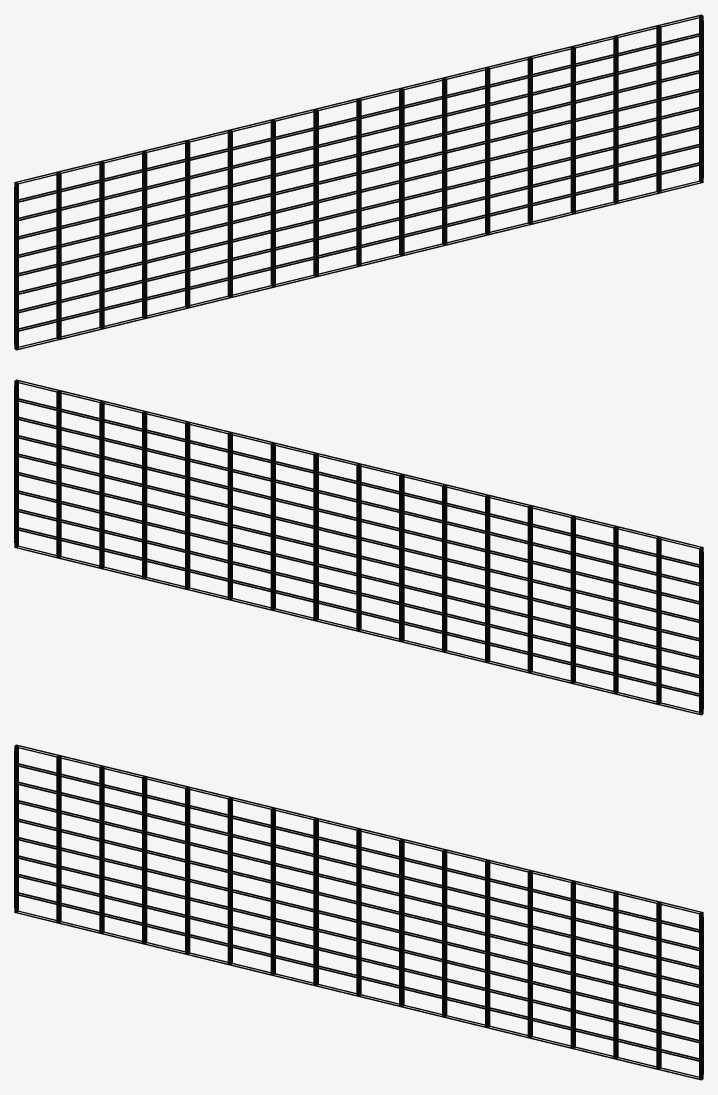
File: Escondite torreta.fbx
3 views of the same model, one above another, from view 1: azimuth 30°, elevation 25°; view 2: azimuth 150°, elevation 25°; view 3: azimuth 330°, elevation 25° (orthographic).
Parts seen in each view (by area): view 1: Cube.002; view 2: Cube.002; view 3: Cube.002.
Part boxes in pixels (x1,y1,x2,y2): Cube.002: (14, 14, 703, 350); Cube.002: (14, 379, 703, 715); Cube.002: (14, 744, 703, 1080).
Size of the model in its own units: 868 by 201 by 4.8.
Materials: 1 (1 with a texture image).
